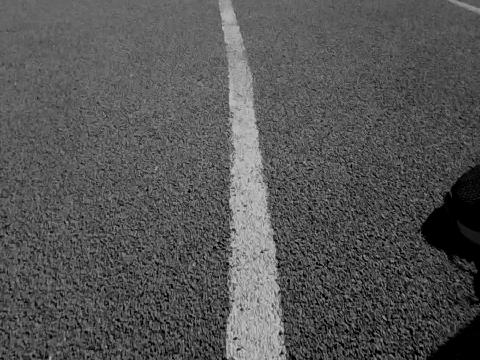Lines: (218, 0, 288, 360)
